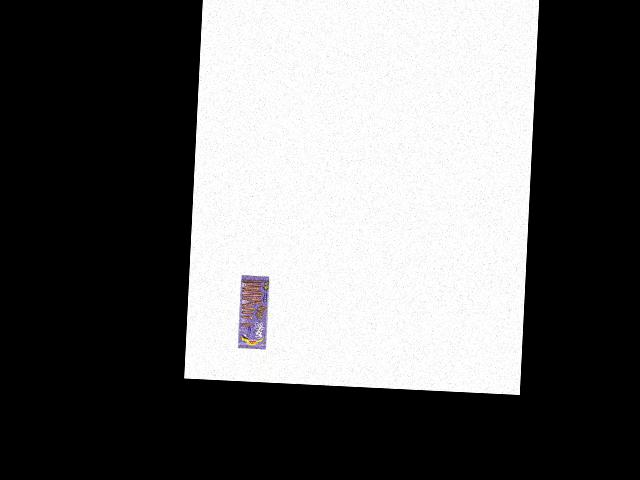chocolate: (233, 273, 270, 350)
